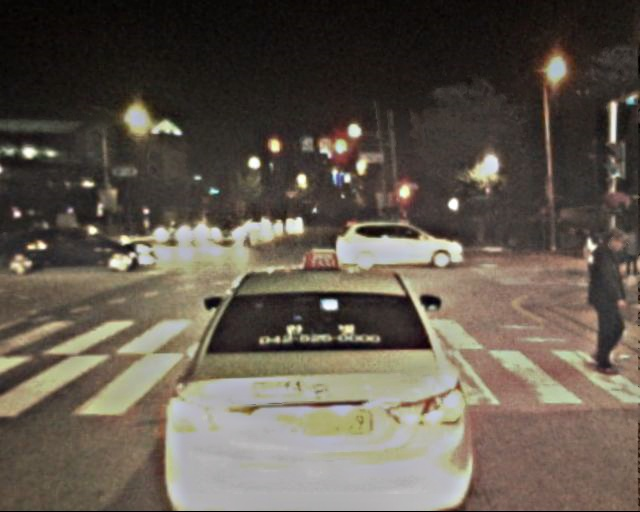person: (578, 228, 638, 374), (582, 228, 605, 284), (620, 227, 640, 281)
